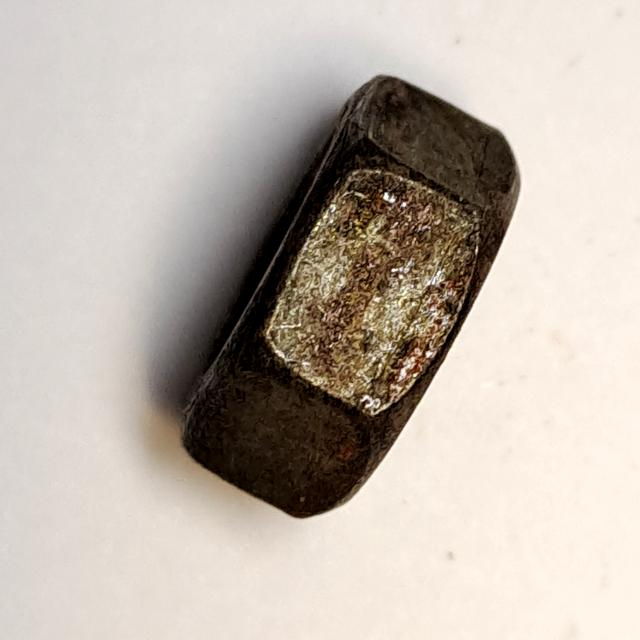Side_Rust: (160, 61, 547, 542)
